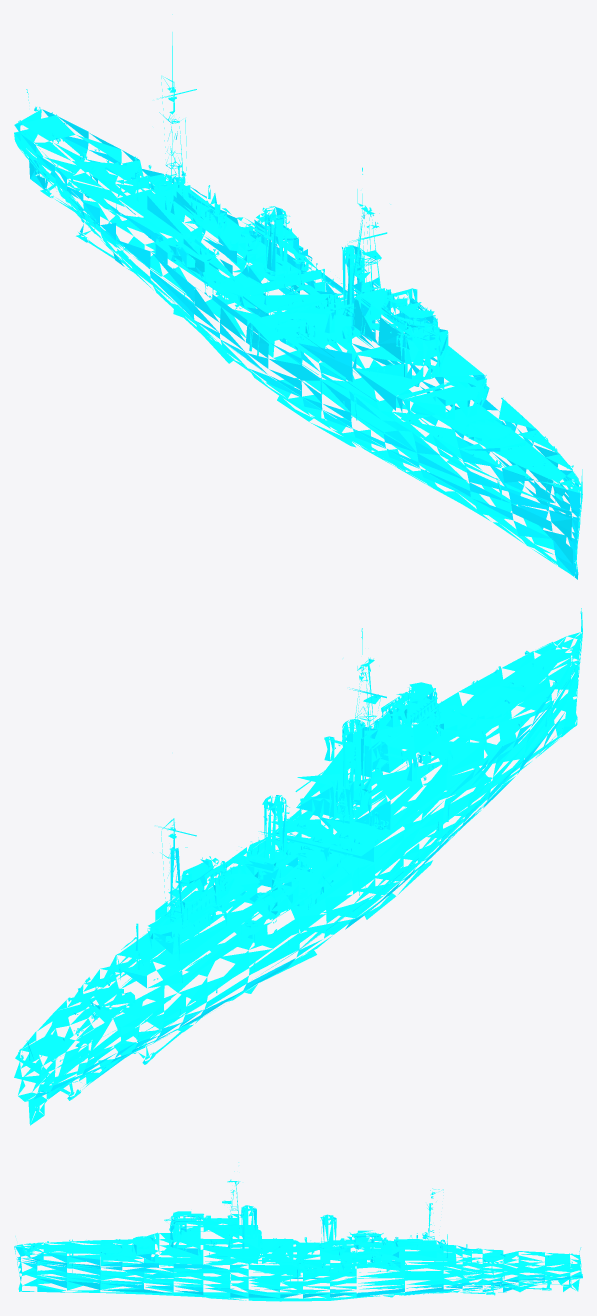
File: Mysore.glb
3 renders of one model, top to bottom at view 1: azimuth 30°, elevation 25°; view 2: azimuth 150°, elevation 25°; view 3: azimuth 270°, elevation 25°, orthographic. The views are drawn at different scales.
Bounding box in the file's own units: 1.29 × 3.02 × 11.29.
